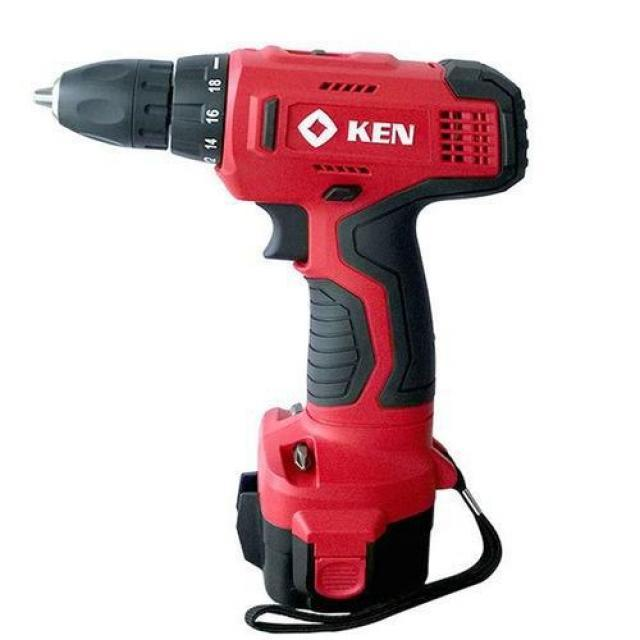drill: (33, 44, 530, 614)
